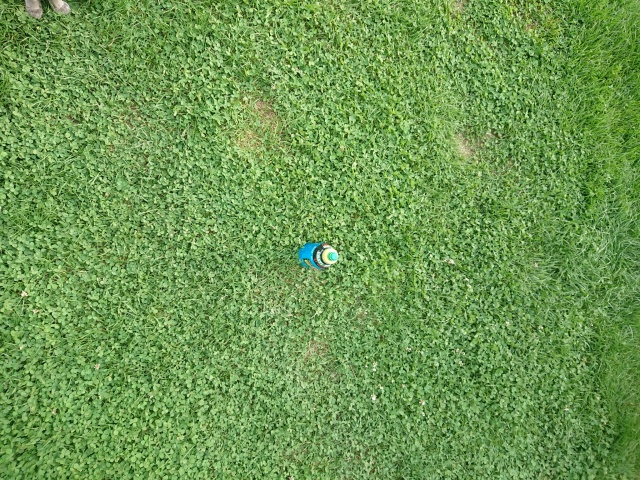Vindi Iso Sport Forest Strawberries 500mL: (296, 240, 339, 270)
